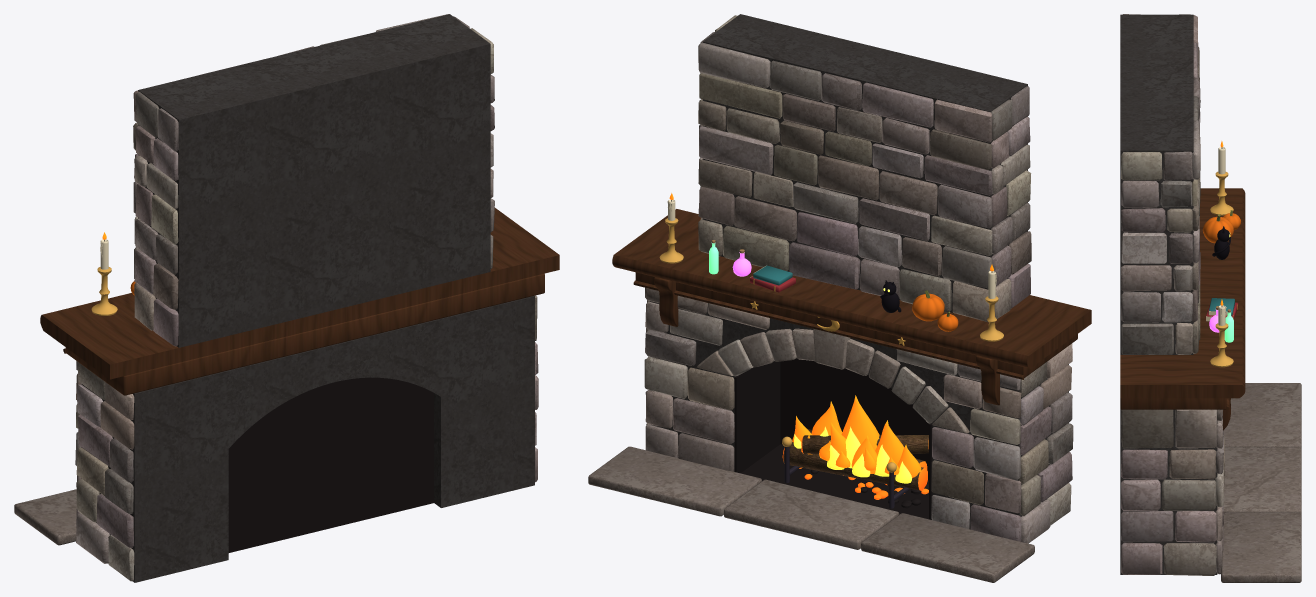
File: manor_fireplace.glb
3 views of the same model, side by side, from view 1: azimuth 30°, elevation 25°; view 2: azimuth 150°, elevation 25°; view 3: azimuth 270°, elevation 25° (orthographic). The views are drawn at different scales.
Parts seen in each view (by area): view 1: Fireplace; view 2: Fireplace; view 3: Fireplace.
Part boxes in pixels (left/top/right/bottom): Fireplace: left=14, top=14, right=559, bottom=582; Fireplace: left=588, top=14, right=1091, bottom=582; Fireplace: left=1120, top=14, right=1301, bottom=582.
Bounding box in the file's own units: 2.54 × 2.44 × 0.99.
22 materials, 4 textured.
